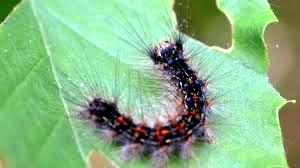Caterpillar: (71, 32, 220, 157)
